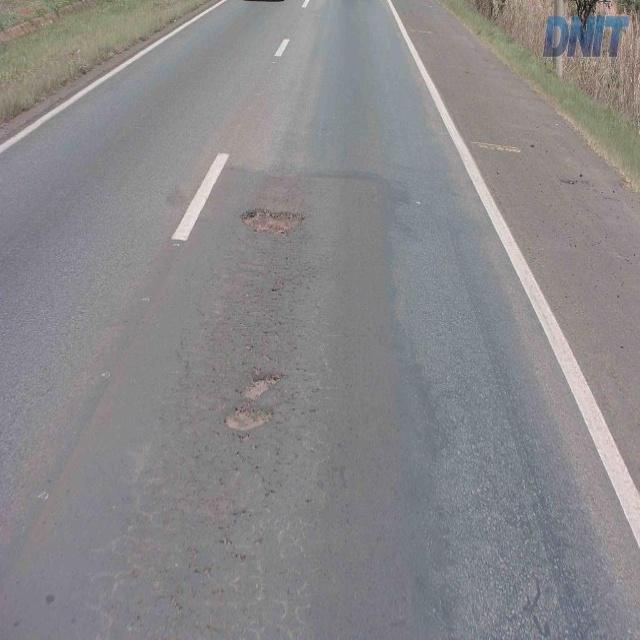pothole: (225, 364, 278, 444), (238, 203, 304, 240)
